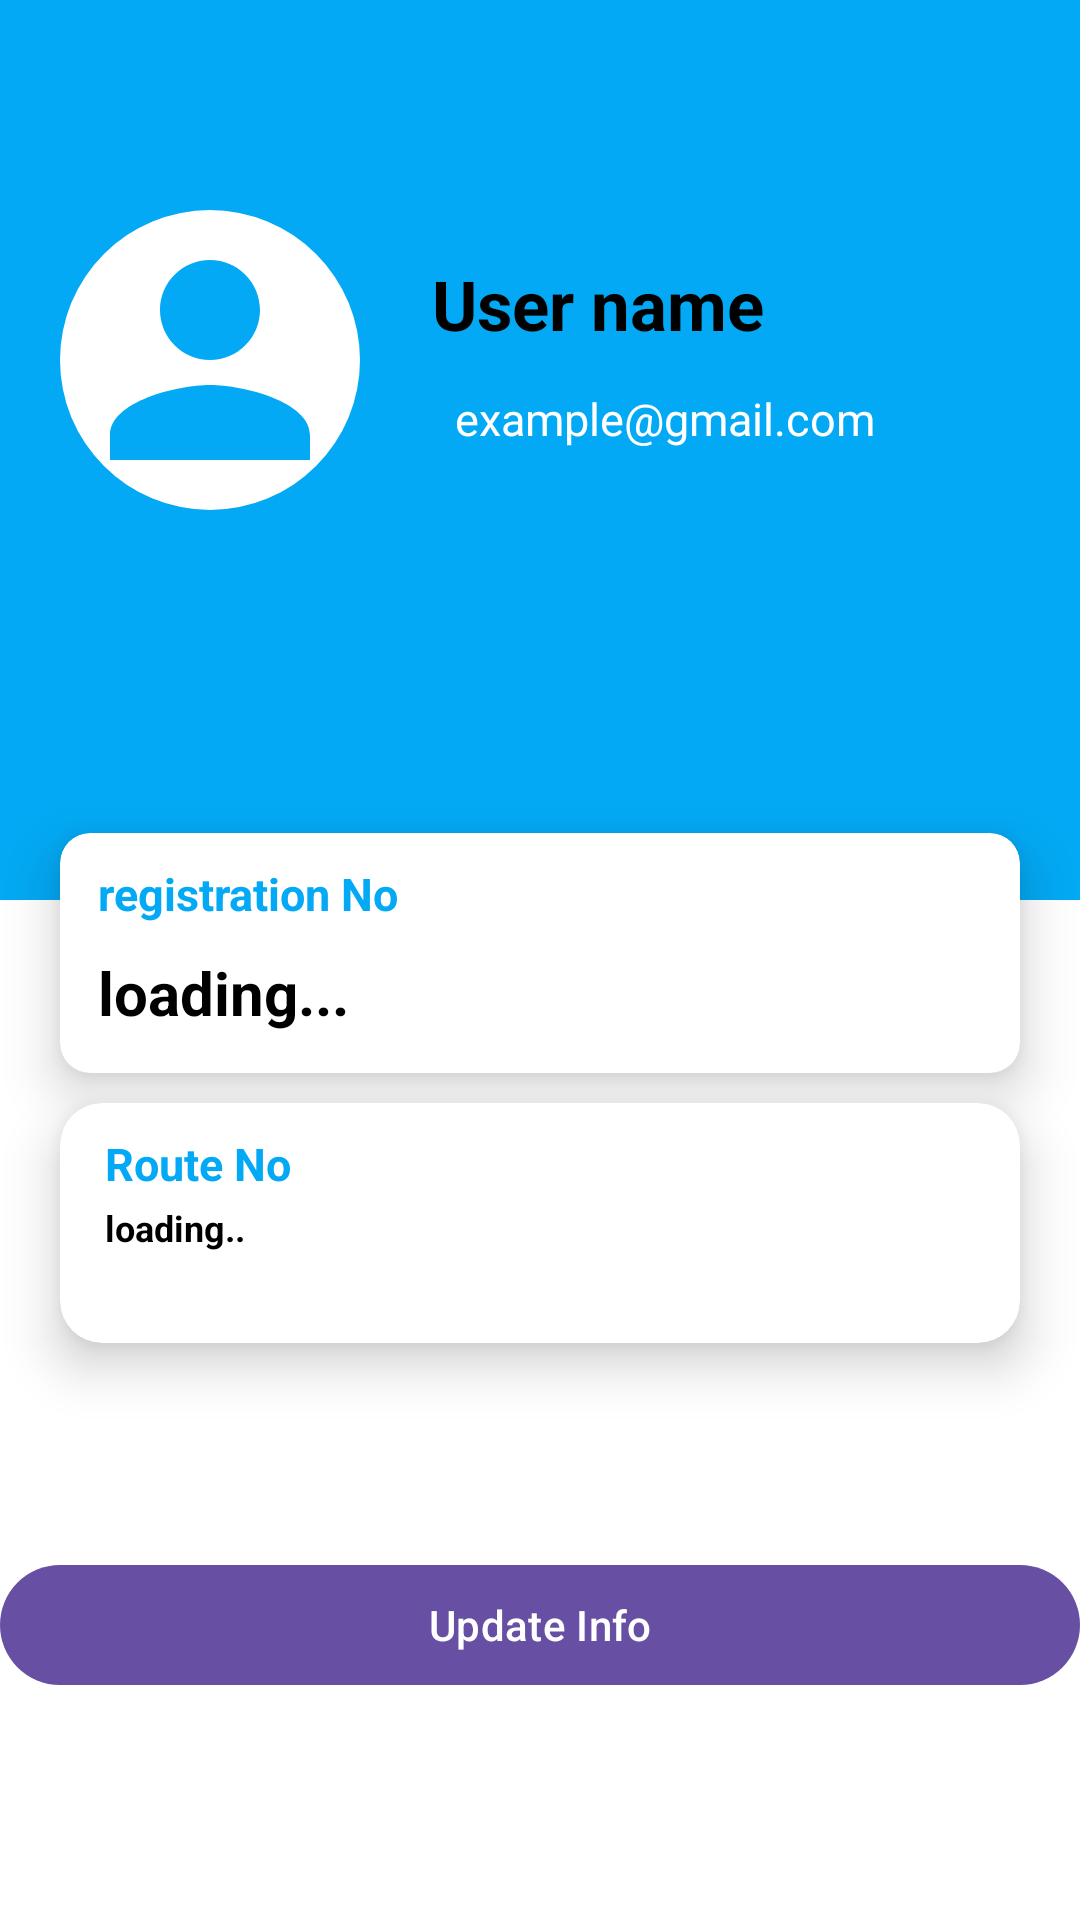

Locate icon controls on the screen. Image size 1080px x 1920px, boxes as [left=x1, top=y1, right=x2, bottom=y2].
profile: [left=60, top=210, right=360, bottom=510]
